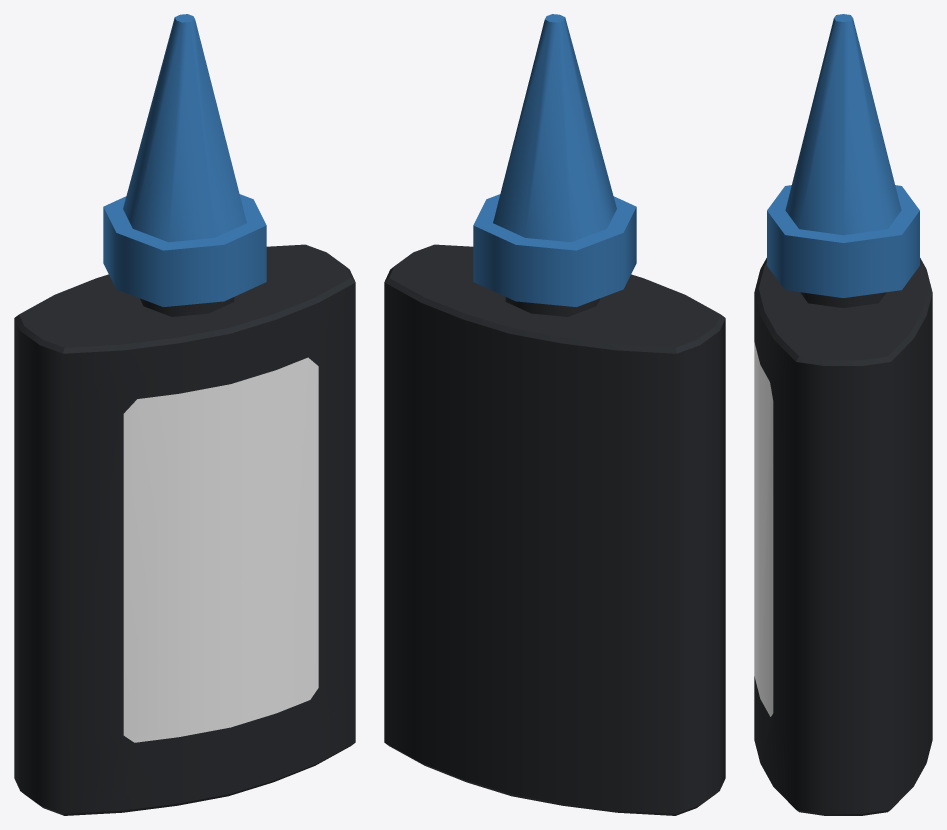
File: oil.fbx
3 renders of one model, left to right at view 1: azimuth 30°, elevation 25°; view 2: azimuth 150°, elevation 25°; view 3: azimuth 270°, elevation 25°, orthographic. The views are drawn at different scales.
Visible parts, largest first — view 1: pCube1; view 2: pCube1; view 3: pCube1.
Boxes of the visible parts, box(x1,y1,x2,y2) form: pCube1: box(14, 14, 355, 815); pCube1: box(384, 14, 725, 815); pCube1: box(754, 14, 932, 815).
Size of the model in its own units: 1.06 by 2.44 by 0.542.
